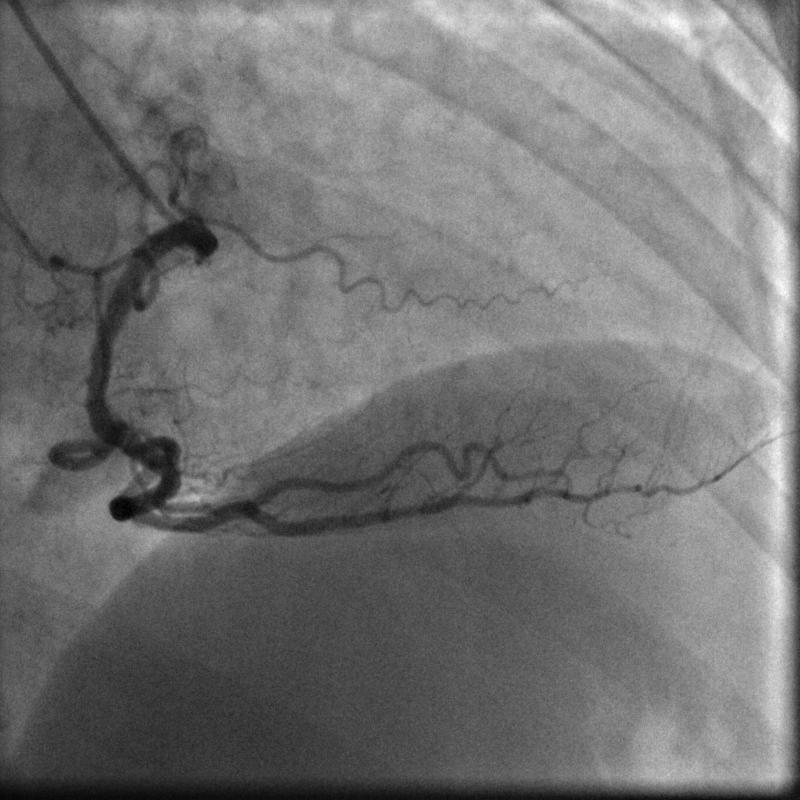Stenosis: (93, 420, 153, 457)
